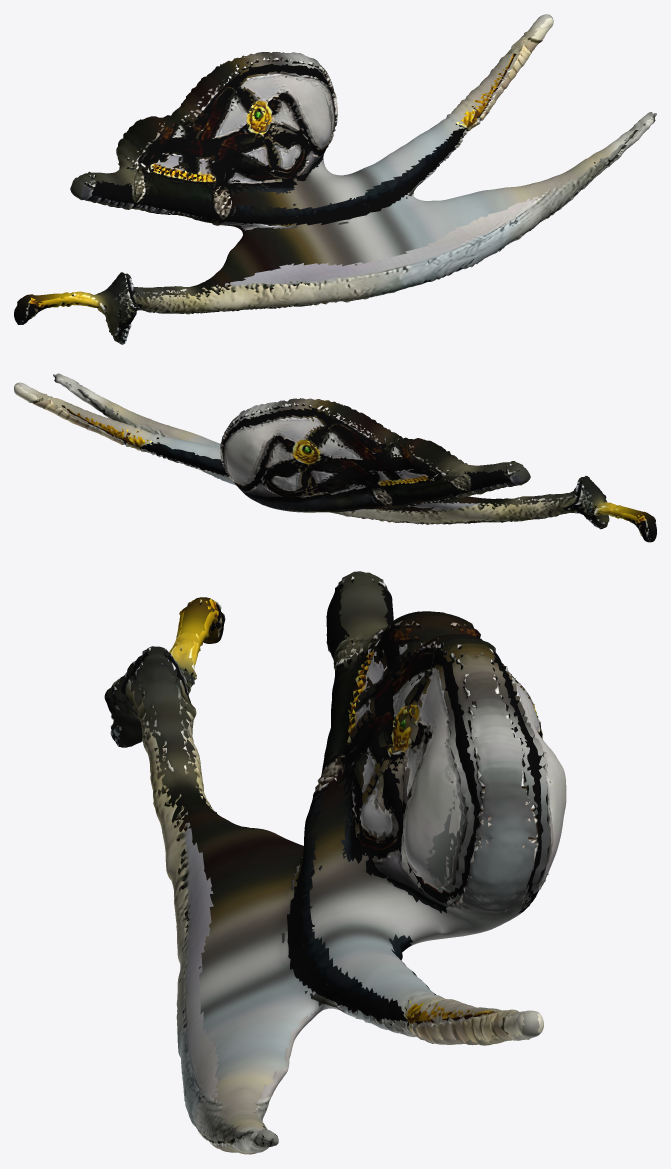
The model's file is kfl-2128.glb.
3 views of the same model, one above another, from view 1: azimuth 30°, elevation 25°; view 2: azimuth 150°, elevation 25°; view 3: azimuth 270°, elevation 25° (orthographic). The views are drawn at different scales.
Parts seen in each view (by area): view 1: kfl-2128; view 2: kfl-2128; view 3: kfl-2128.
Part boxes in pixels (x1=…): kfl-2128: x1=14, y1=14, x2=656, y2=344; kfl-2128: x1=14, y1=373, x2=656, y2=542; kfl-2128: x1=104, y1=571, x2=566, y2=1154.
Size of the model in its own units: 0.9845 by 0.2784 by 0.3349.
4 materials, 4 textured.
